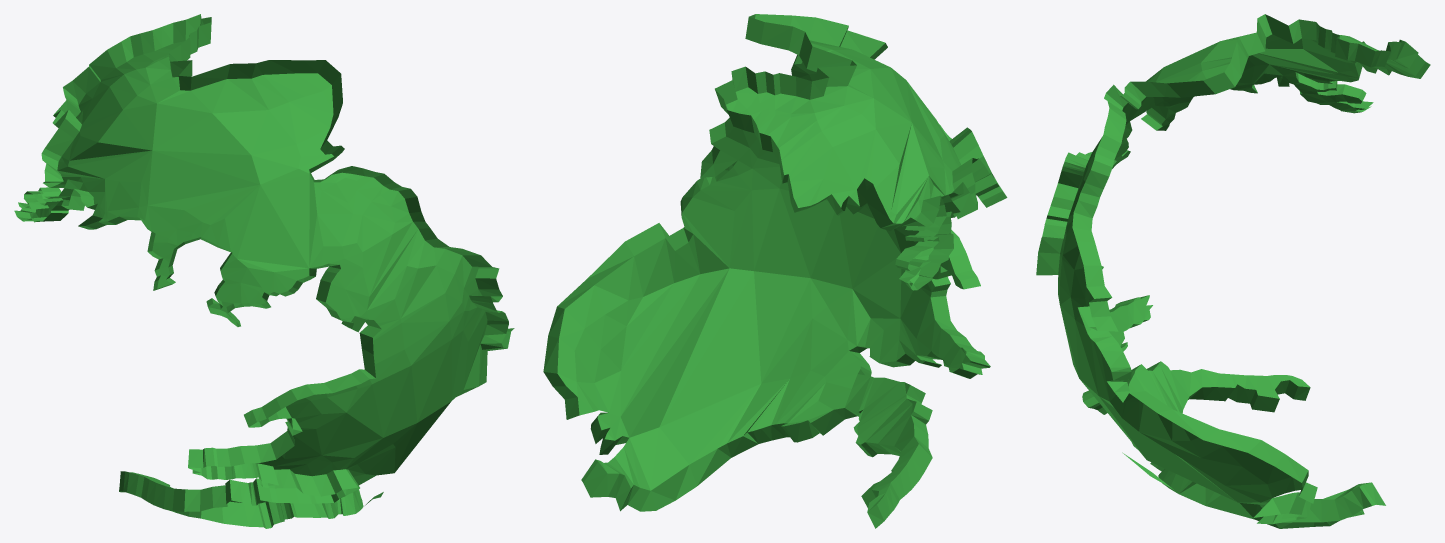
The model's file is LandBottom_v1.fbx.
3 renders of one model, left to right at view 1: azimuth 30°, elevation 25°; view 2: azimuth 150°, elevation 25°; view 3: azimuth 270°, elevation 25°, orthographic. The views are drawn at different scales.
Visible parts, largest first — view 1: LandBottom; view 2: LandBottom; view 3: LandBottom.
Boxes of the visible parts, x1,y1,x2,y2 form: LandBottom: [14, 14, 514, 528]; LandBottom: [543, 14, 1007, 528]; LandBottom: [1036, 14, 1430, 528].
Size of the model in its own units: 17.67 by 18.9 by 15.18.
